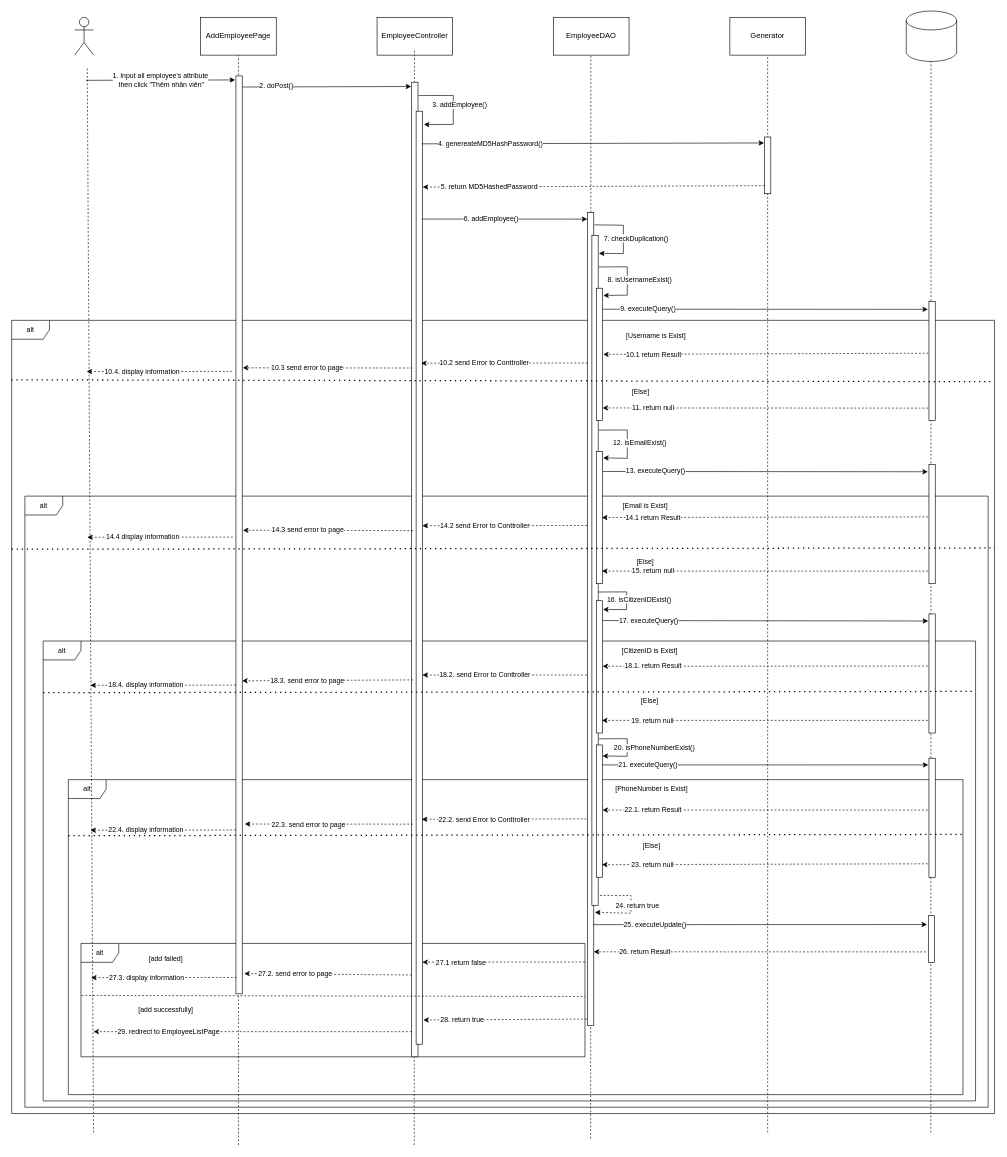
Some shapes in this 1007 by 1157 pixel diagram are drawn without their labels. Each missing label, with the centre of its shape:
"Admin" belongs at pixel 84 36.
"DB" belongs at pixel 931 35.
